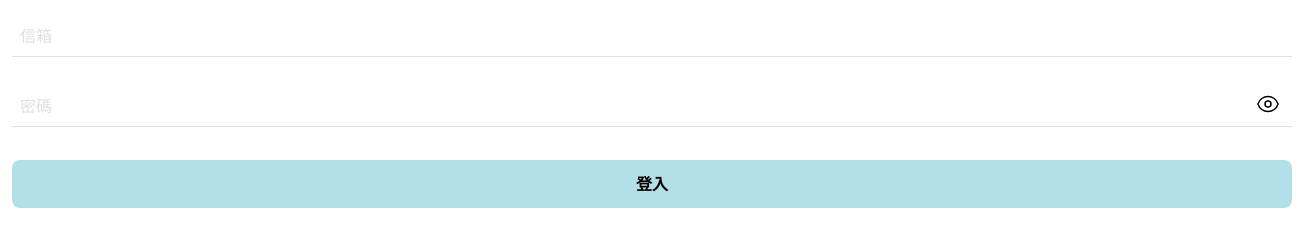
#LoginPanel › should show validation errors on submit
What coordinates should you click on to do the following:
click the button "登入"
I would click on:
 (652, 184)
Its box is [12,160,1292,208].
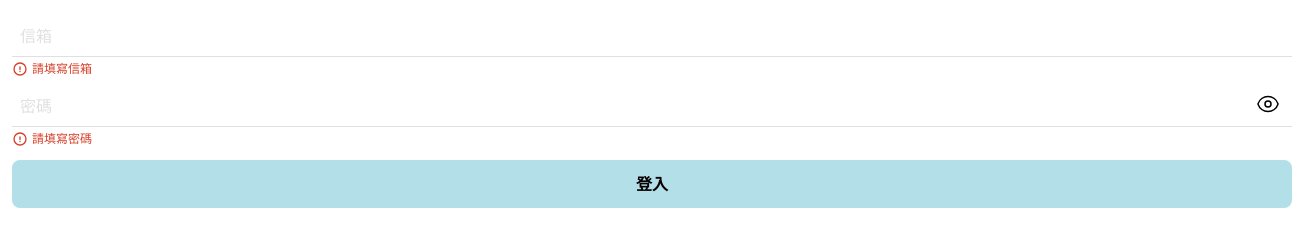
Expected: the text "請填寫信箱" is shown, [32,61,92,77]
Expected: the text "請填寫密碼" is shown, [32,131,92,147]
